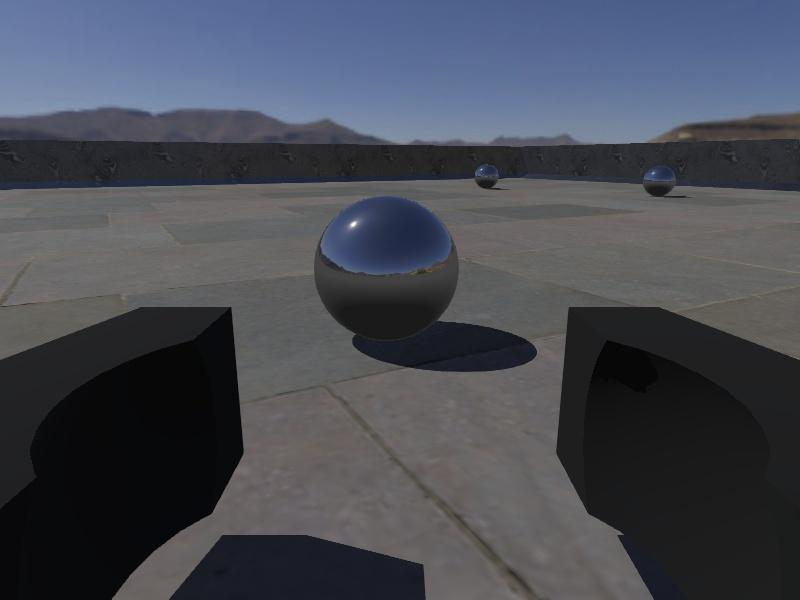steel ball: (313, 195, 460, 342), (642, 163, 677, 198), (473, 162, 500, 191)
